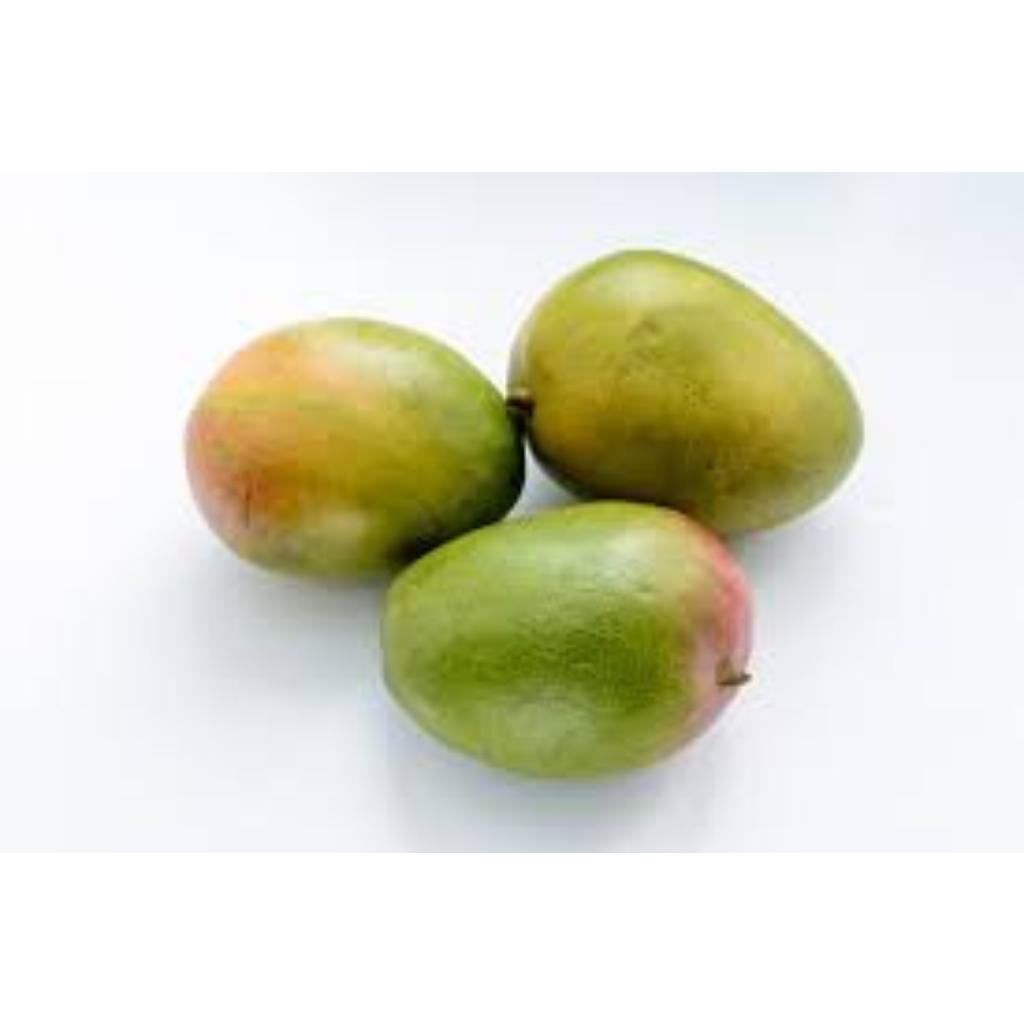mango: (384, 499, 760, 778), (506, 249, 870, 531), (187, 309, 534, 584)
